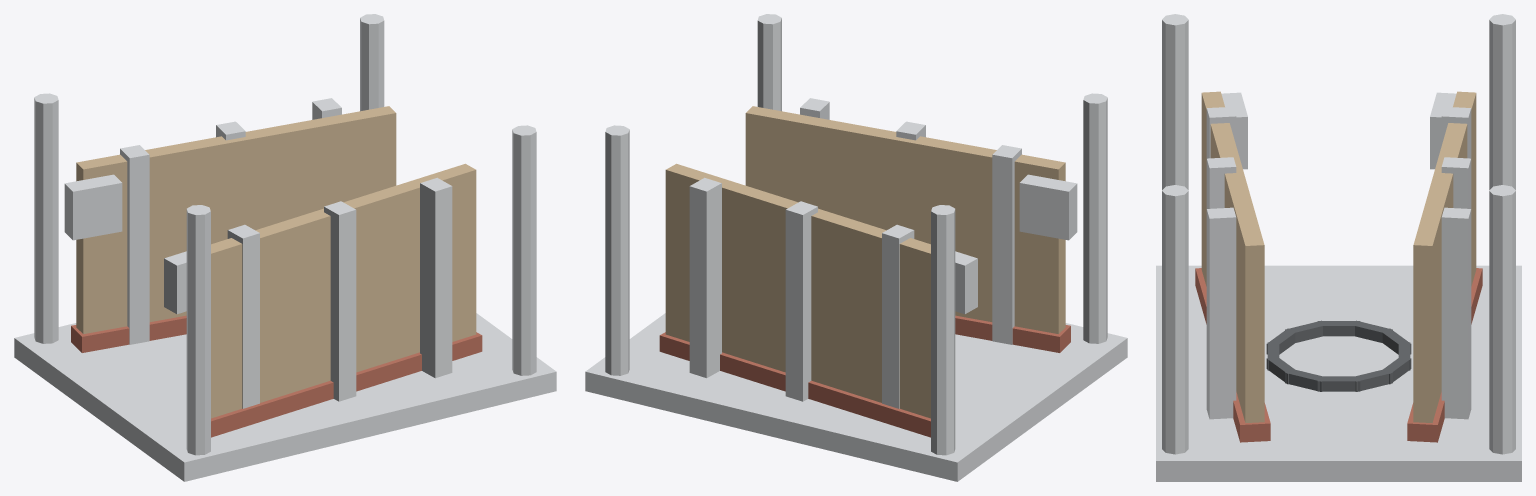
The model's file is fish-market-and-trawler-quay-fish-market-and-trawler-q-83aa4421__37260.glb.
The picture shows the model from 3 angles, left to right: view 1: azimuth 30°, elevation 25°; view 2: azimuth 150°, elevation 25°; view 3: azimuth 270°, elevation 25°; orthographic projection. The views are drawn at different scales.
Parts seen in each view (by area): view 1: fish-market-and-trawler-quay-trawl-door-pair; view 2: fish-market-and-trawler-quay-trawl-door-pair; view 3: fish-market-and-trawler-quay-trawl-door-pair.
Part boxes in pixels (<box>): fish-market-and-trawler-quay-trawl-door-pair: <box>14,14,556,481</box>; fish-market-and-trawler-quay-trawl-door-pair: <box>585,14,1127,481</box>; fish-market-and-trawler-quay-trawl-door-pair: <box>1156,14,1521,481</box>.
Bounding box in the file's own units: 2.4 × 1.6 × 1.9.
